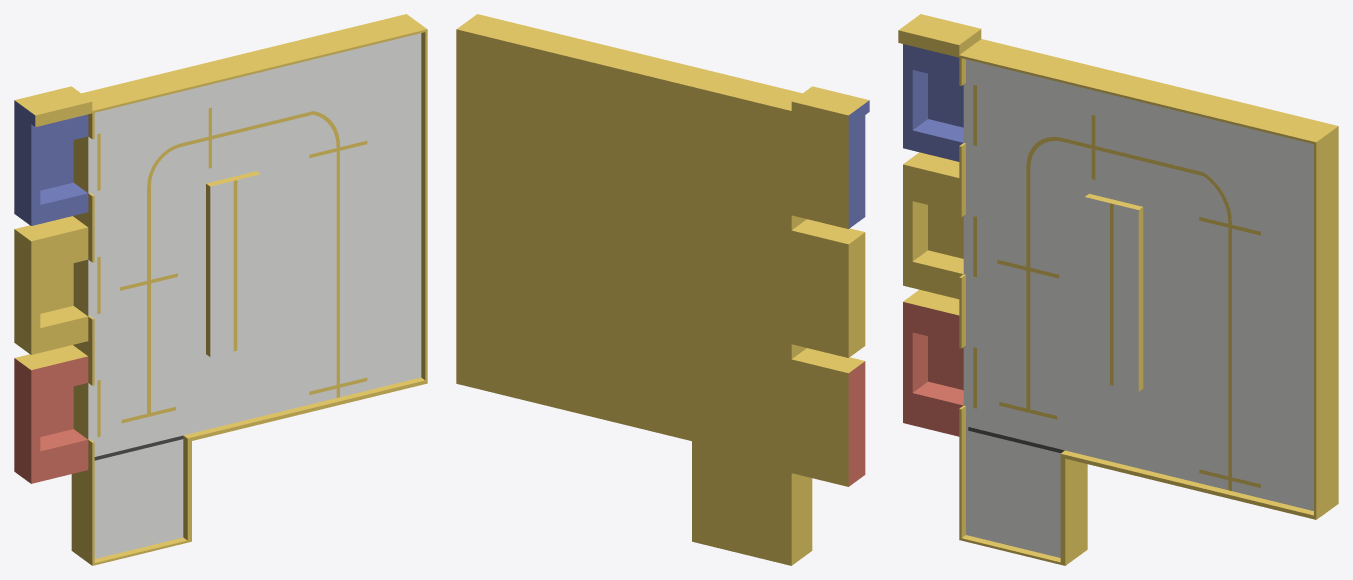
The model's file is irc_stage3.dae.
3 renders of one model, left to right at view 1: azimuth 30°, elevation 25°; view 2: azimuth 150°, elevation 25°; view 3: azimuth 330°, elevation 25°, orthographic. The views are drawn at different scales.
Visible parts, largest first — view 1: Body1.001; view 2: Body1.001; view 3: Body1.001.
Boxes of the visible parts, x1=… form: Body1.001: x1=14, y1=14, x2=427, y2=565; Body1.001: x1=456, y1=14, x2=869, y2=565; Body1.001: x1=898, y1=14, x2=1338, y2=565.
Size of the model in its own units: 2.17 by 0.2001 by 2.45.
